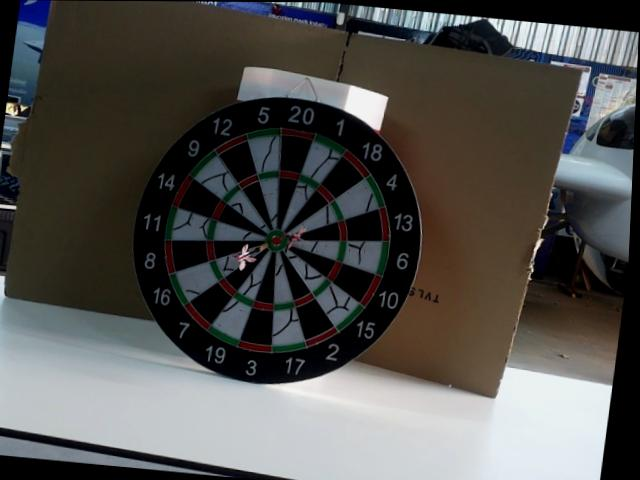bullseye: (264, 229, 289, 252)
